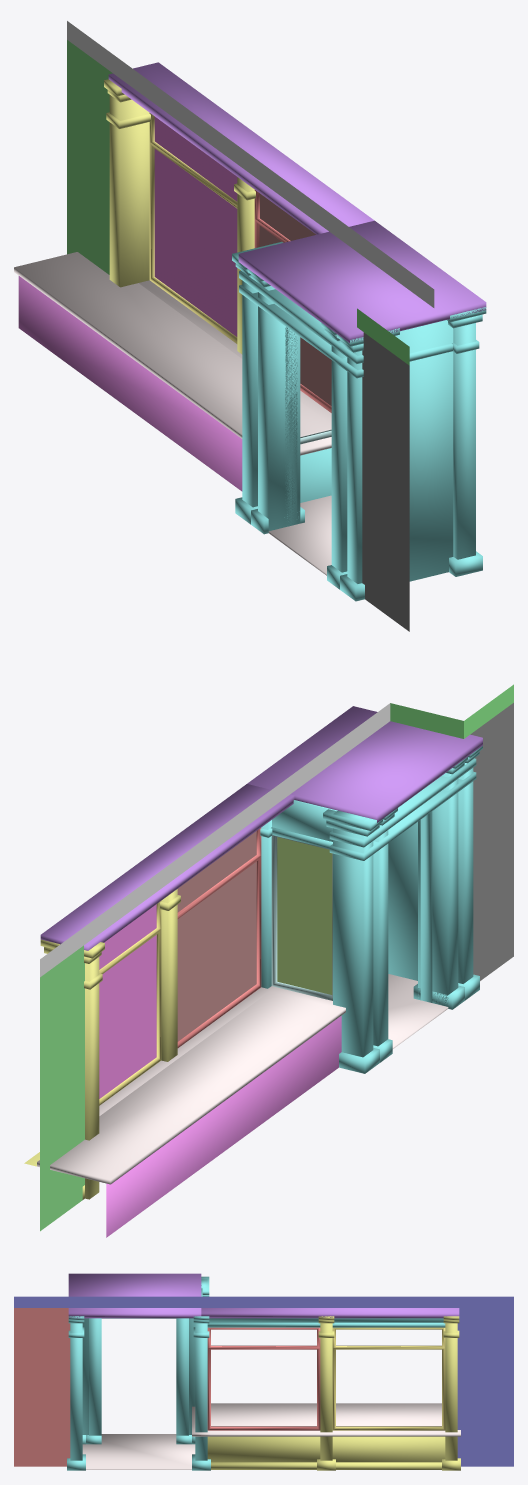
Rendered from SM_shopFront_02.gltf.
3 renders of one model, top to bottom at view 1: azimuth 30°, elevation 25°; view 2: azimuth 150°, elevation 25°; view 3: azimuth 270°, elevation 25°, orthographic. The views are drawn at different scales.
Visible parts, largest first — view 1: SM_shopFront_02; view 2: SM_shopFront_02; view 3: SM_shopFront_02.
Boxes of the visible parts, x1,y1,x2,y2 form: SM_shopFront_02: (14,21,486,631); SM_shopFront_02: (24,684,513,1237); SM_shopFront_02: (14,1273,513,1470).
Bounding box in the file's own units: 1.5 × 3 × 8.
